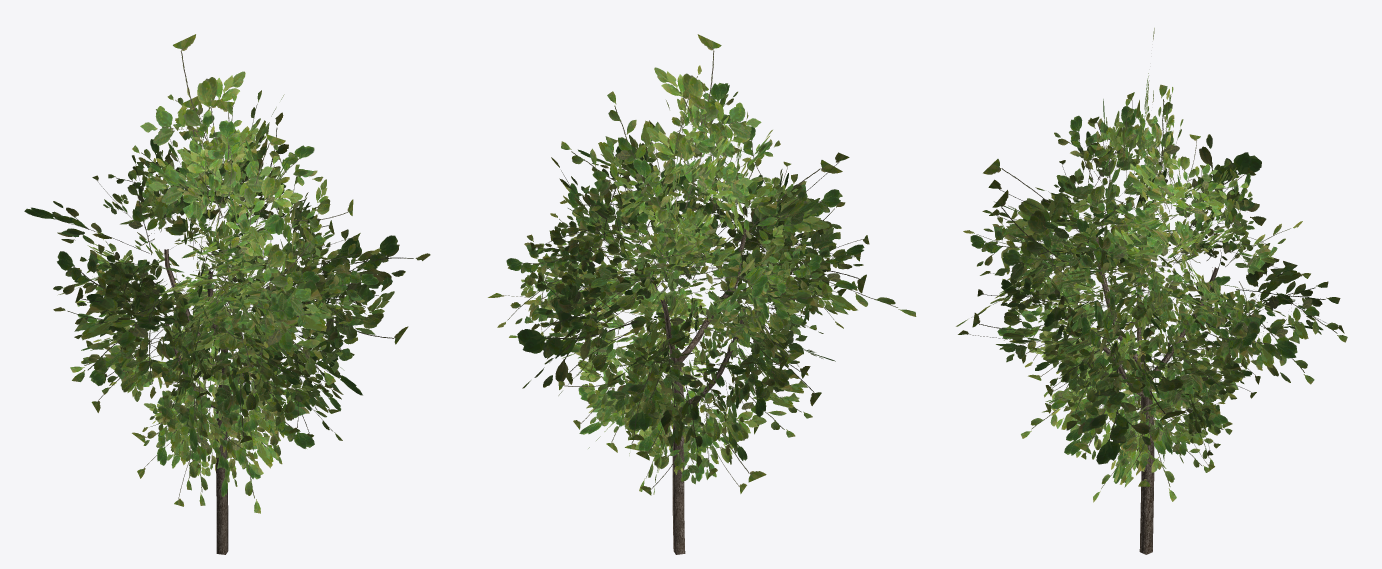
Rendered from tree_pear_v0_l1.glb.
3 views of the same model, side by side, from view 1: azimuth 30°, elevation 25°; view 2: azimuth 150°, elevation 25°; view 3: azimuth 270°, elevation 25° (orthographic). The views are drawn at different scales.
Parts seen in each view (by area): view 1: tree_pear_v0_l1; view 2: tree_pear_v0_l1; view 3: tree_pear_v0_l1.
Part boxes in pixels (<box>): tree_pear_v0_l1: <box>24,34,430,554</box>; tree_pear_v0_l1: <box>488,34,916,554</box>; tree_pear_v0_l1: <box>956,28,1347,554</box>.
Size of the model in its own units: 8.1 by 10.52 by 7.76.
Materials: 2 (2 with a texture image).
